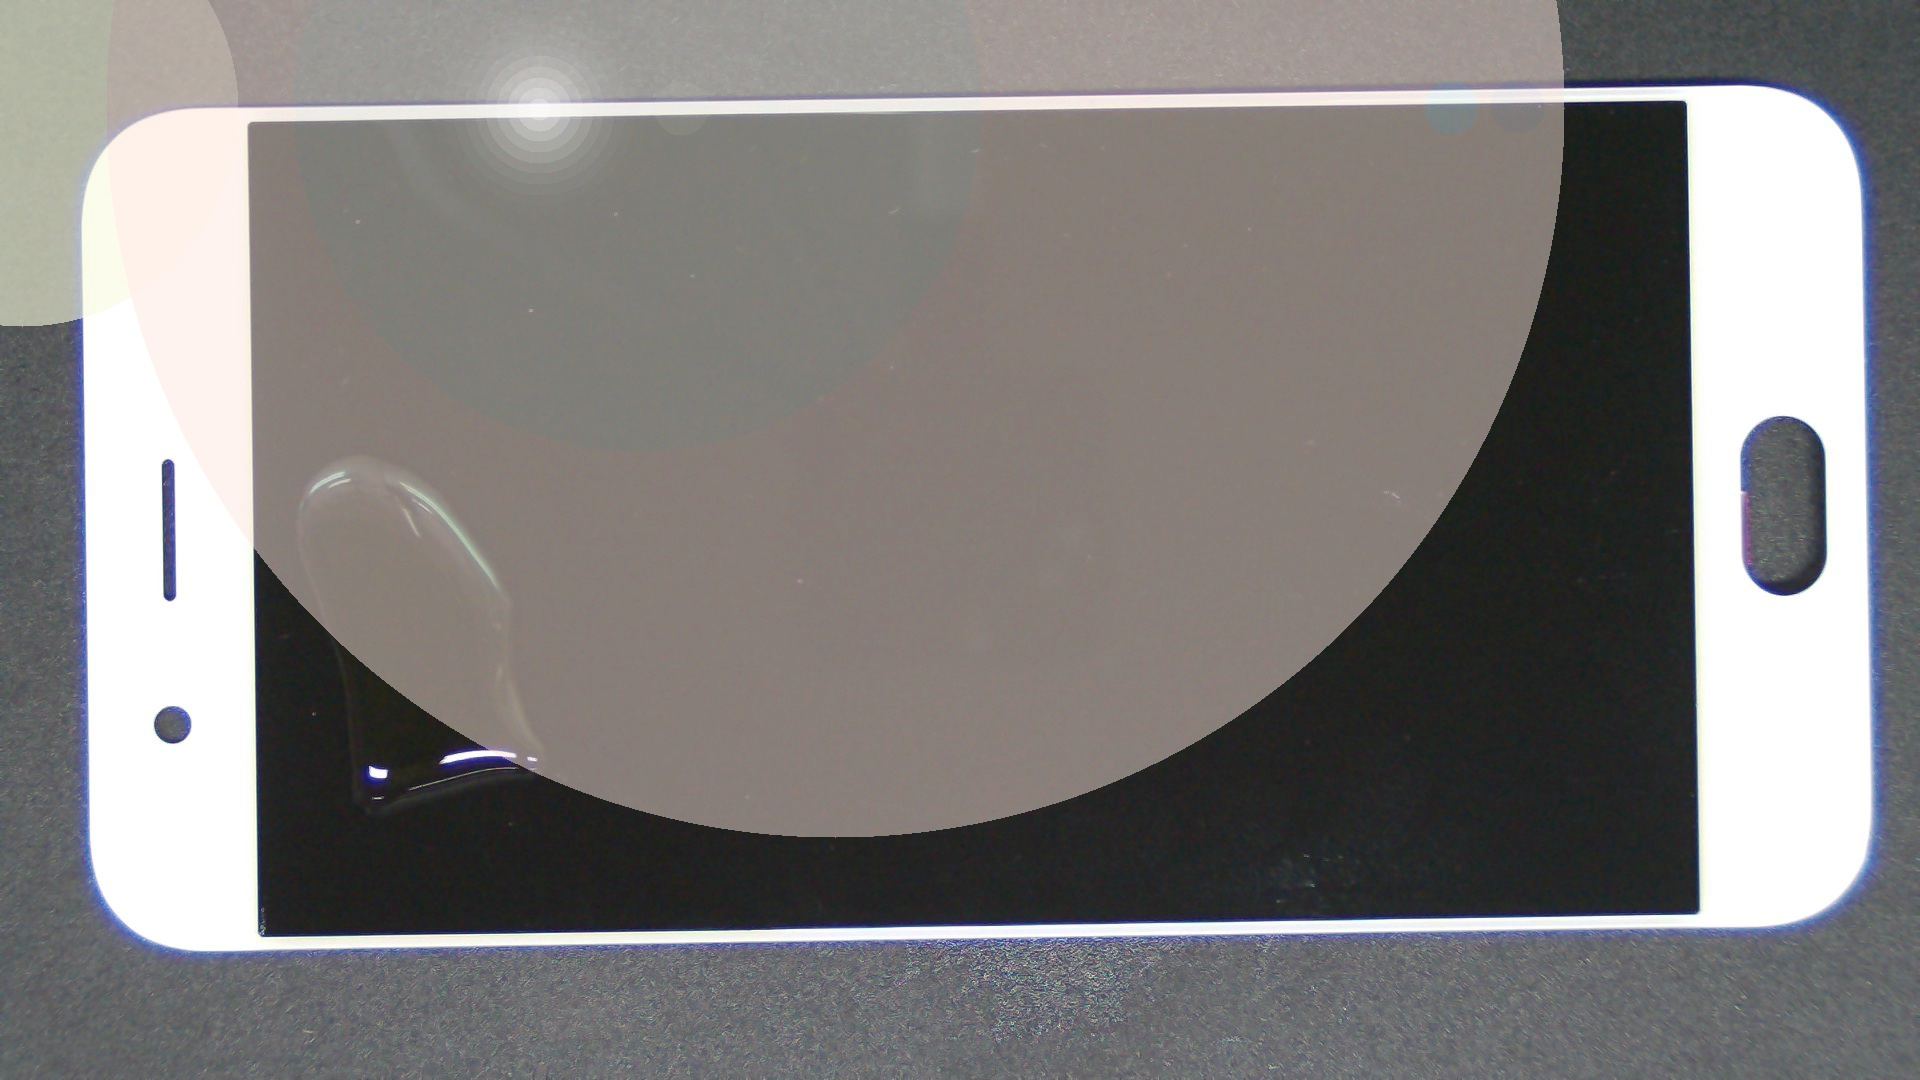oil: (179, 227, 538, 682)
